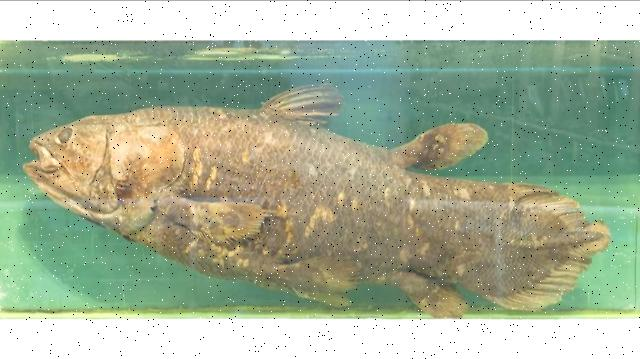Mulut: (8, 127, 70, 208)
Sirip Anal: (392, 264, 472, 316)
Sirip Dada: (153, 178, 271, 254)
Sirip Ekor: (480, 176, 604, 310)
Sirip Perut: (276, 247, 378, 317)
Sirip Punggung: (246, 70, 490, 182)
